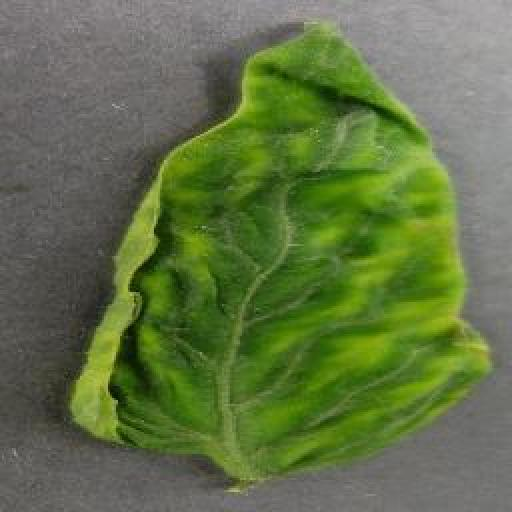disease_tomato: (74, 20, 492, 472)
